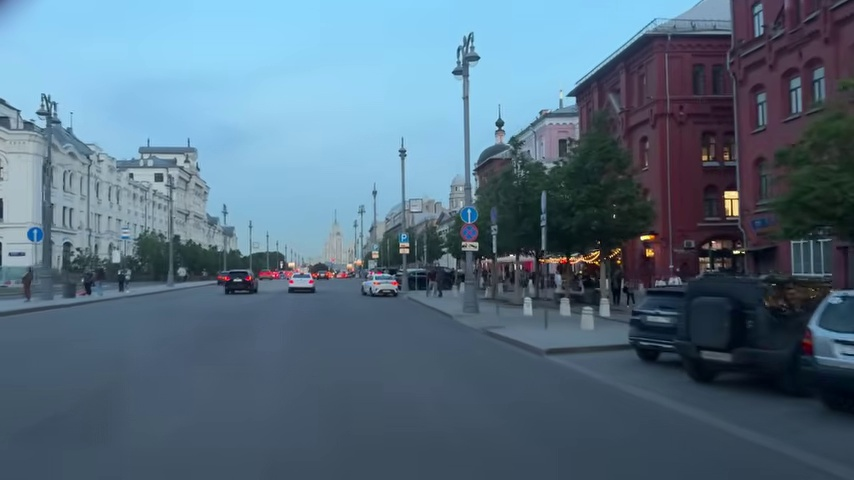apagada: (449, 46, 482, 81), (394, 144, 408, 162)
